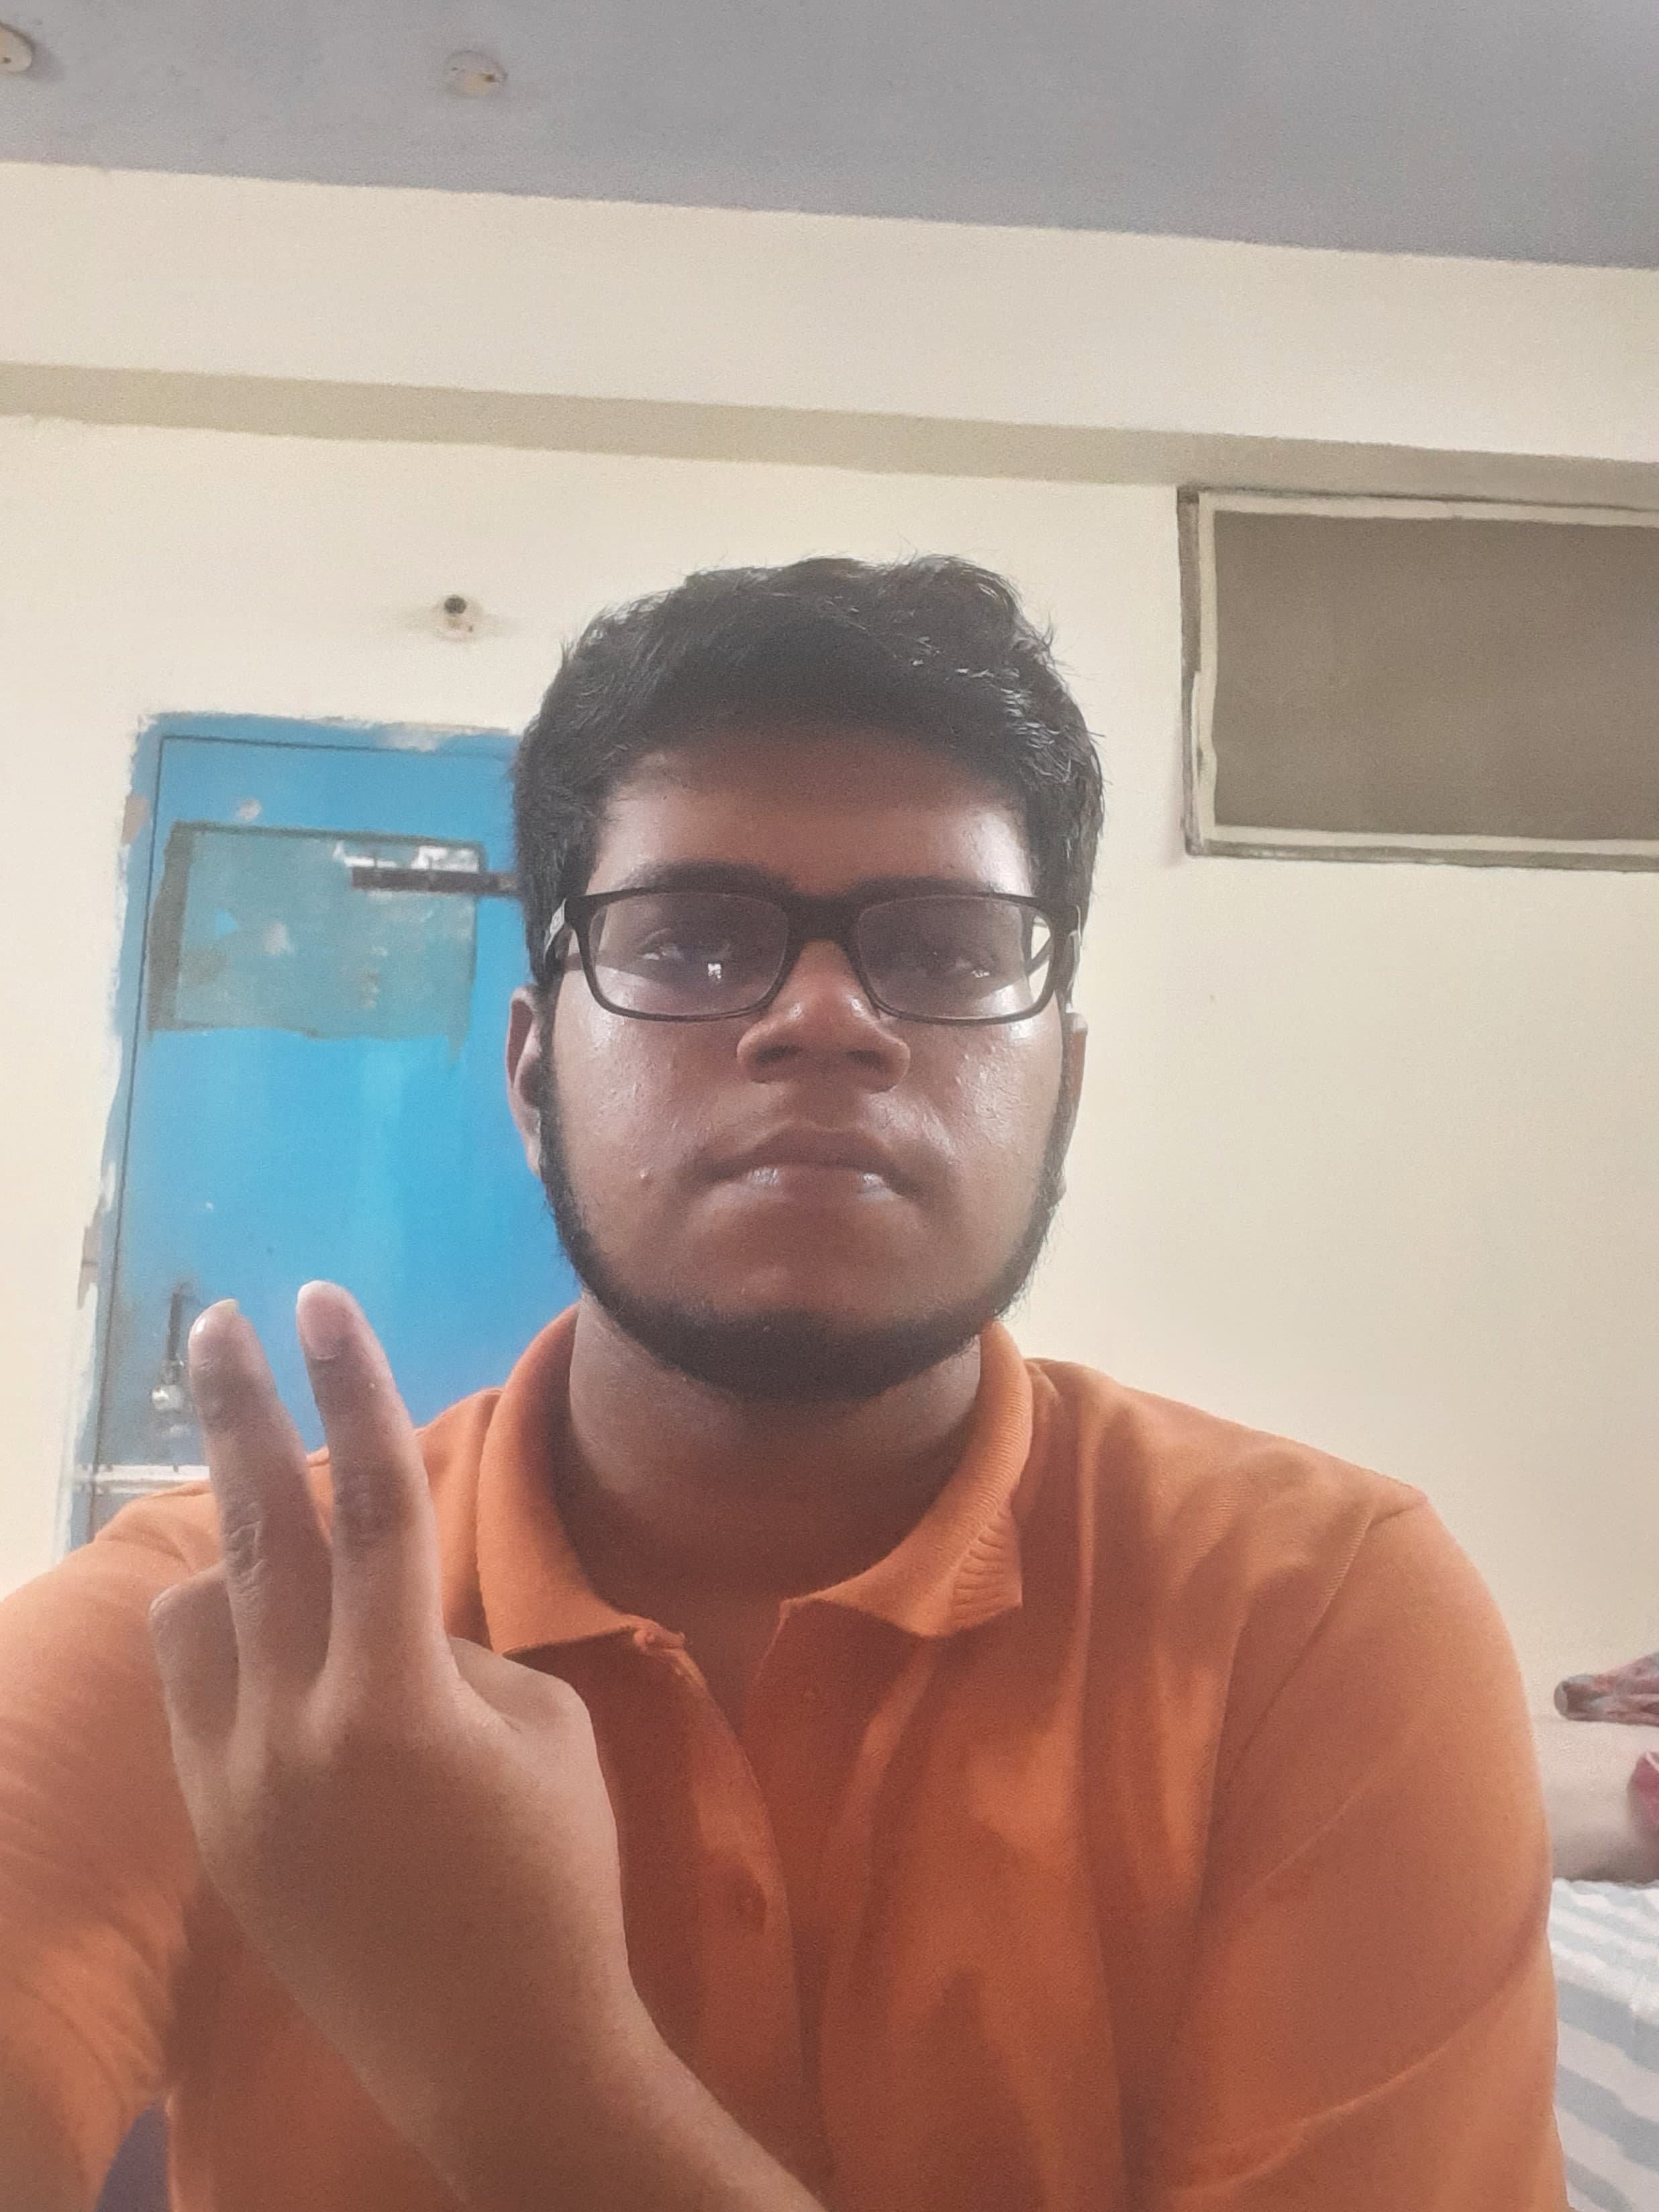ll7: (150, 1273, 645, 2043)
